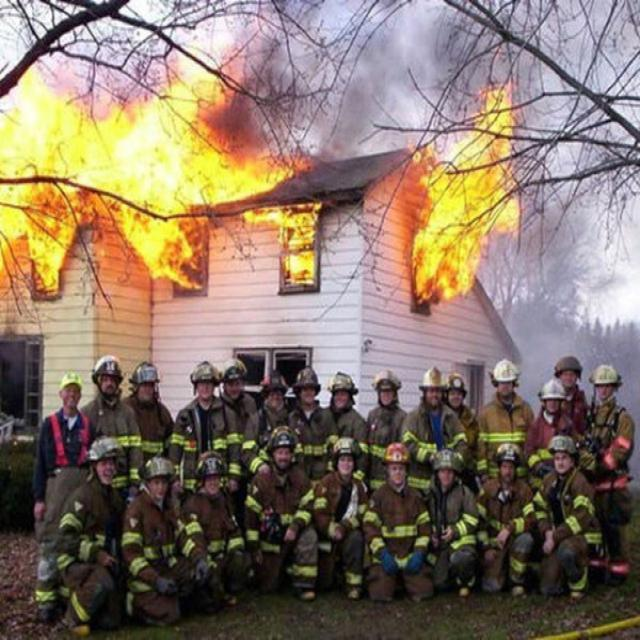Fire: (0, 76, 200, 302), (411, 87, 518, 312), (200, 140, 293, 207), (248, 206, 320, 288)
